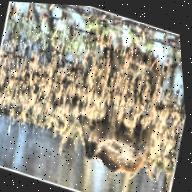boar: (56, 87, 190, 192)
